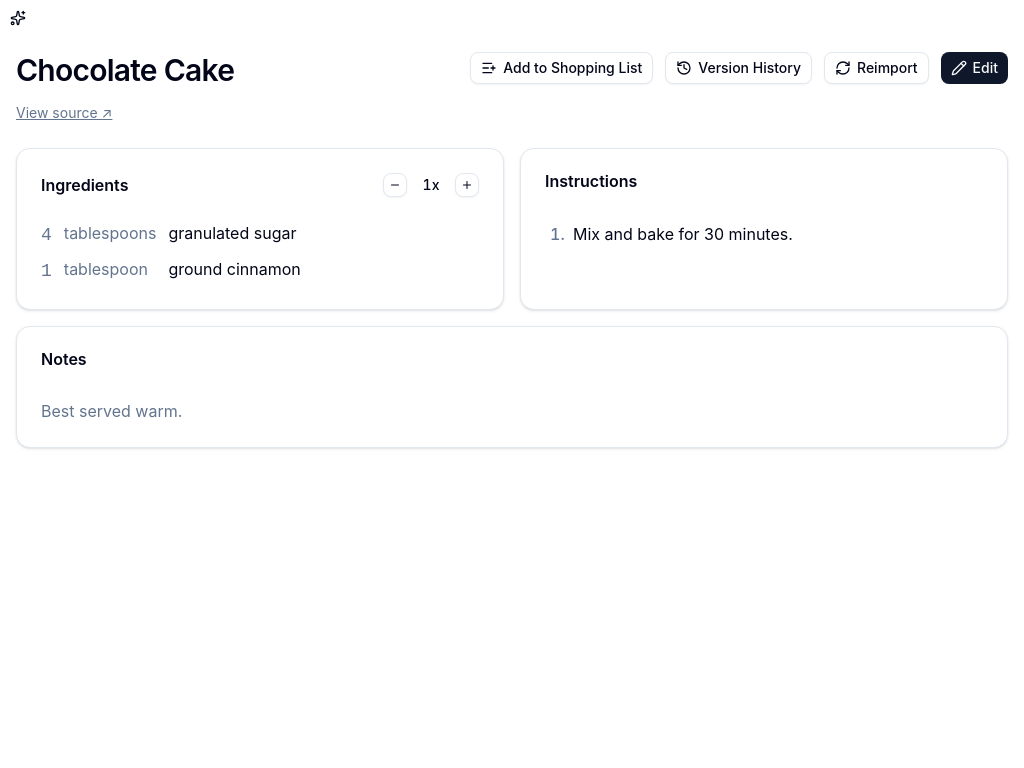
RecipeDetailPage › offers the kitchen assistant in the nav bar for an imported recipe
Click the button named "Open Kitchen Assistant" at (18, 18), box [0,0,36,36]
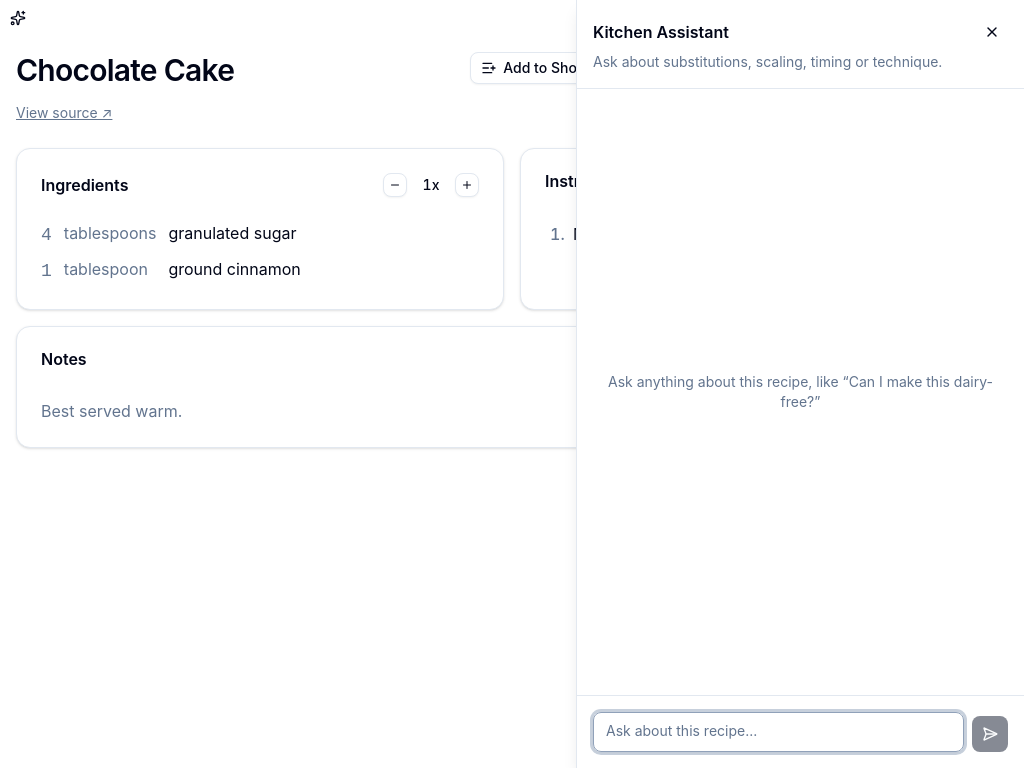
Check: the heading "Kitchen Assistant" is shown, box [593,20,729,44]
